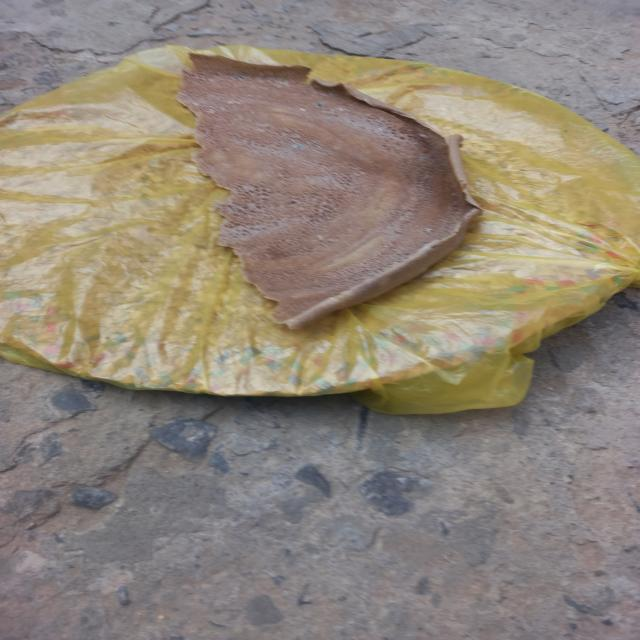injera_mold: (279, 81, 291, 87), (417, 156, 428, 162), (293, 145, 305, 150), (226, 101, 241, 105), (425, 227, 433, 232), (237, 76, 246, 80), (225, 76, 234, 80), (316, 103, 324, 107), (298, 107, 306, 111), (420, 134, 428, 138), (326, 117, 333, 121), (208, 110, 215, 114), (337, 108, 346, 111), (333, 146, 340, 149), (378, 128, 383, 131)
